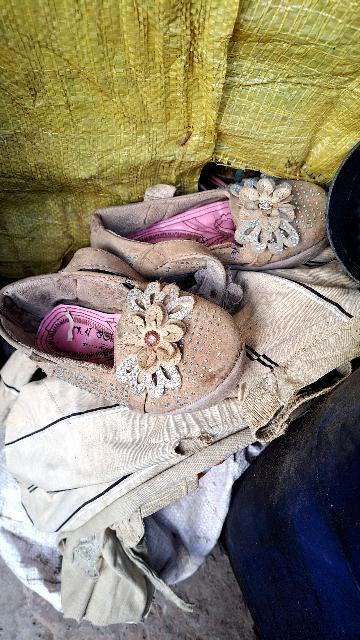sandal: (0, 237, 256, 433), (90, 167, 339, 268)
